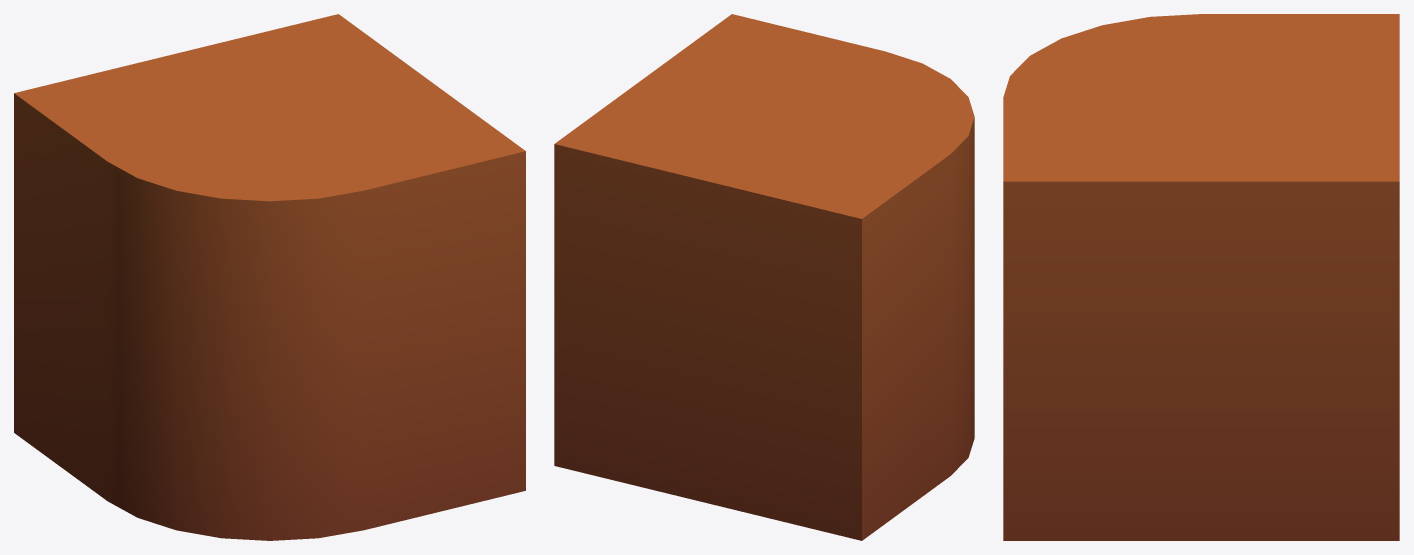
The model's file is space-terrain-tall-curved.glb.
3 renders of one model, left to right at view 1: azimuth 30°, elevation 25°; view 2: azimuth 150°, elevation 25°; view 3: azimuth 270°, elevation 25°, orthographic. The views are drawn at different scales.
Parts seen in each view (by area): view 1: terrain_tall_curved; view 2: terrain_tall_curved; view 3: terrain_tall_curved.
Part boxes in pixels (x1,y1,x2,y2): terrain_tall_curved: [14, 14, 525, 540]; terrain_tall_curved: [554, 14, 974, 540]; terrain_tall_curved: [1003, 14, 1399, 540].
Size of the model in its own units: 2 by 2 by 2.
